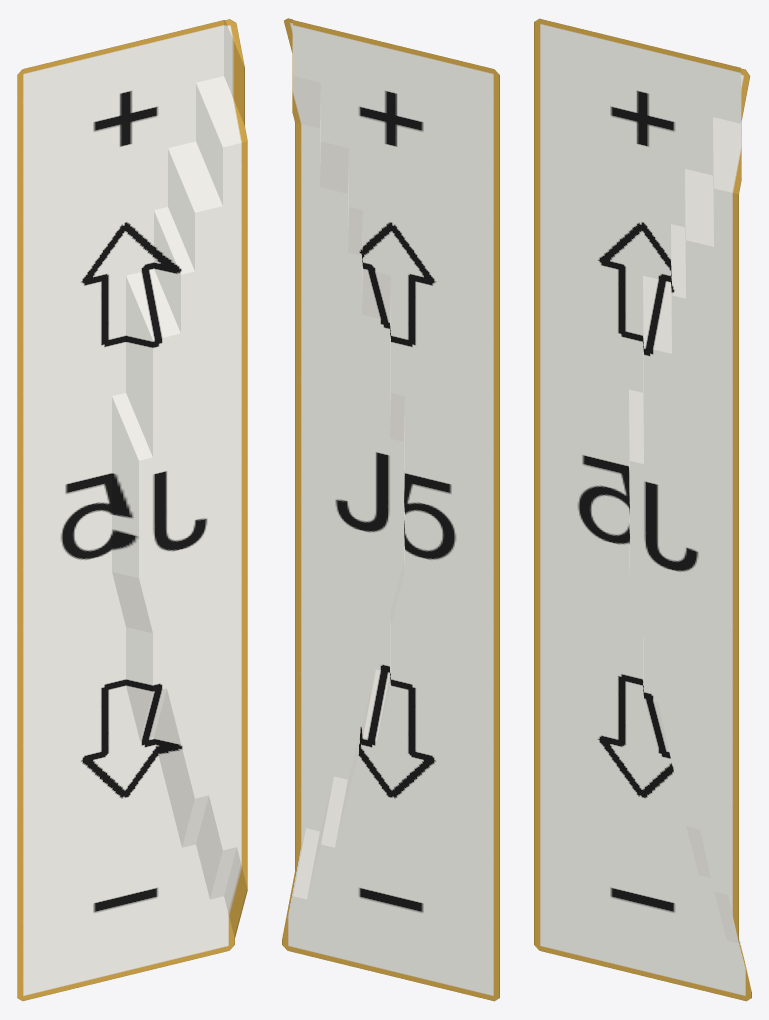
Rendered from J5_sticker_other_active.glb.
3 renders of one model, left to right at view 1: azimuth 30°, elevation 25°; view 2: azimuth 150°, elevation 25°; view 3: azimuth 330°, elevation 25°, orthographic.
Bounding box in the file's own units: 0.006 × 0.024 × 0.0006.
Materials: 1 (1 with a texture image).
